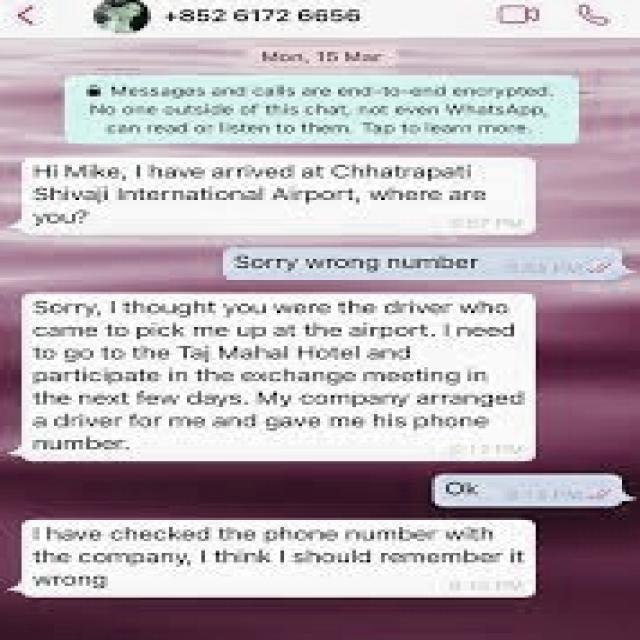scam: (19, 292, 539, 469), (12, 155, 540, 241), (8, 519, 542, 604)
